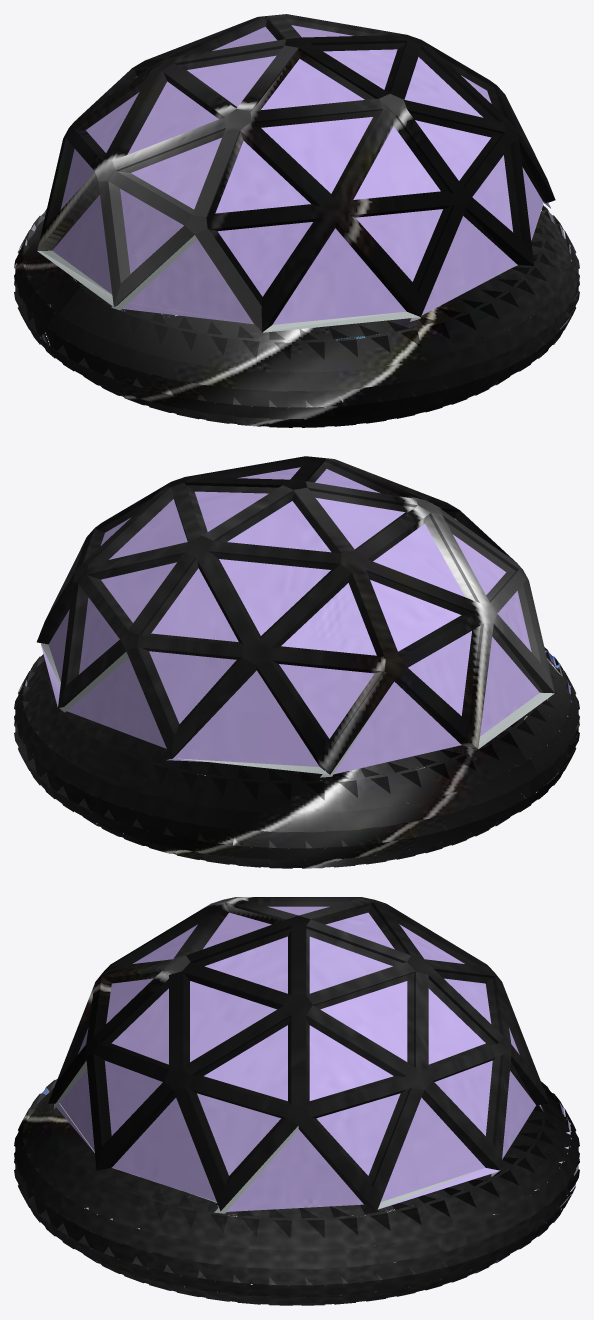
File: tyrefinaldome.glb
The picture shows the model from 3 angles, top to bottom: view 1: azimuth 30°, elevation 25°; view 2: azimuth 150°, elevation 25°; view 3: azimuth 270°, elevation 25°; orthographic projection.
Parts seen in each view (by area): view 1: Torus; view 2: Torus; view 3: Torus.
Boxes of the visible parts, x1=… form: Torus: x1=14, y1=14, x2=579, y2=427; Torus: x1=14, y1=456, x2=579, y2=868; Torus: x1=14, y1=897, x2=579, y2=1305.
Bounding box in the file's own units: 2.93 × 1.69 × 2.93.
Materials: 3 (3 with a texture image).
